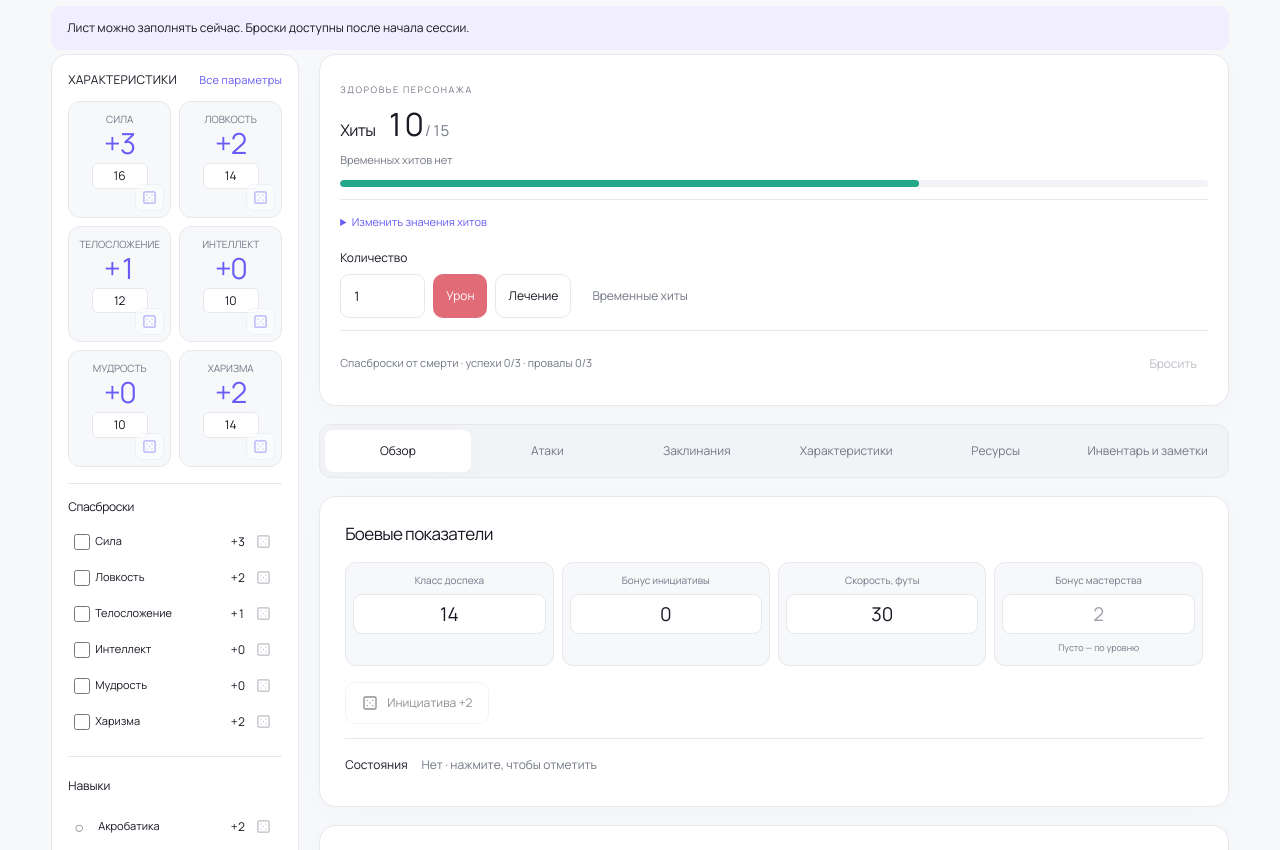
Test case: explains why a spell cannot be applied without an active session
(page scrolled)
Click the tab "Заклинания".
click(697, 451)  # box left=624, top=430, right=770, bottom=472
(page scrolled)
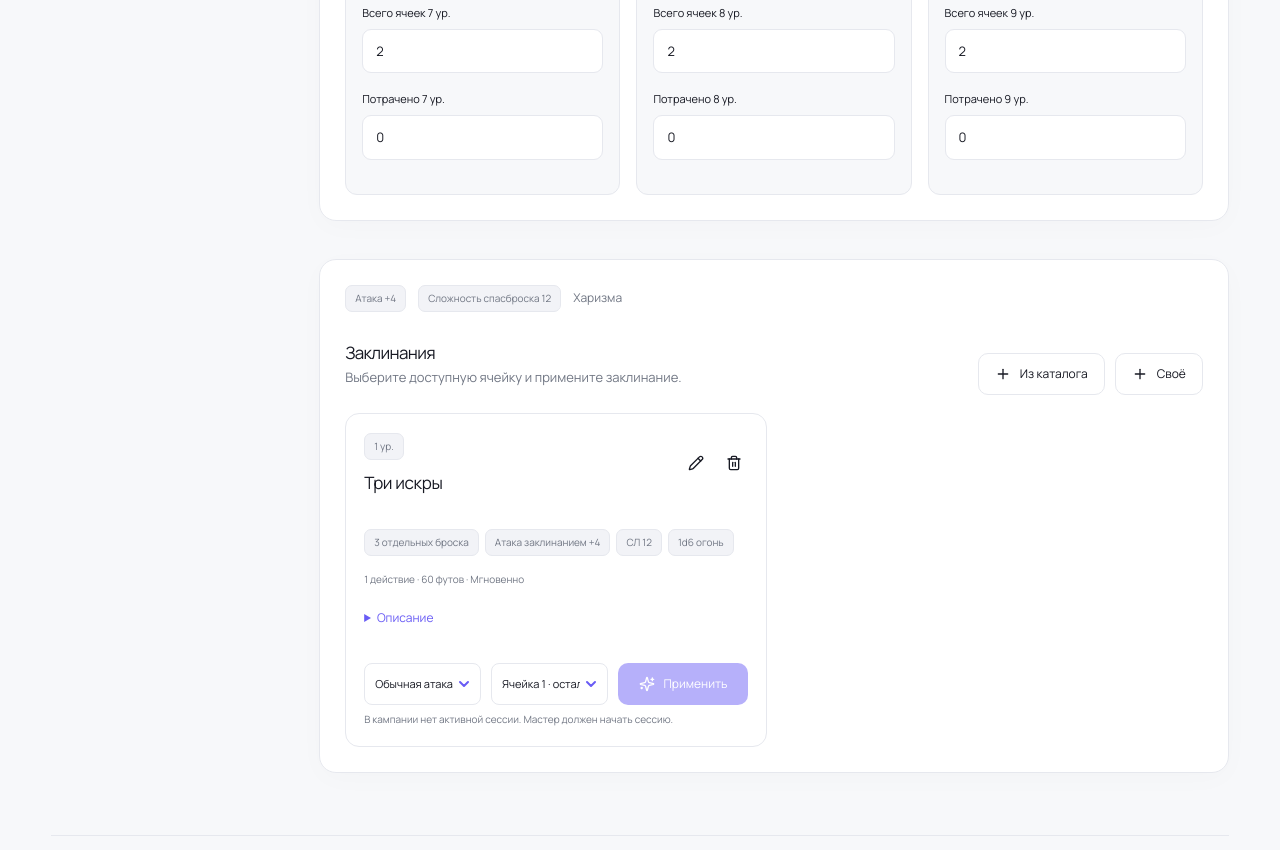
Check: the heading "Три искры" is shown, box left=364, top=470, right=442, bottom=495
Check: the button "Применить" is disabled, box left=618, top=663, right=748, bottom=705
Check: the text "В кампании нет активной сессии. Мастер должен начать сессию." is shown, box left=364, top=712, right=673, bottom=726
